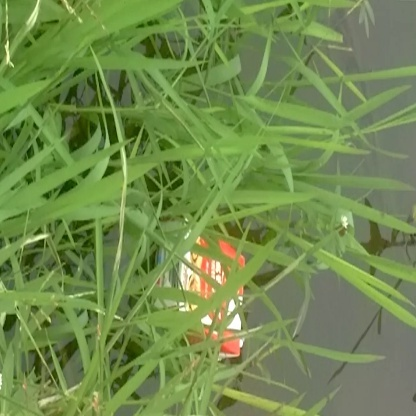milk-box: (156, 222, 256, 361)
